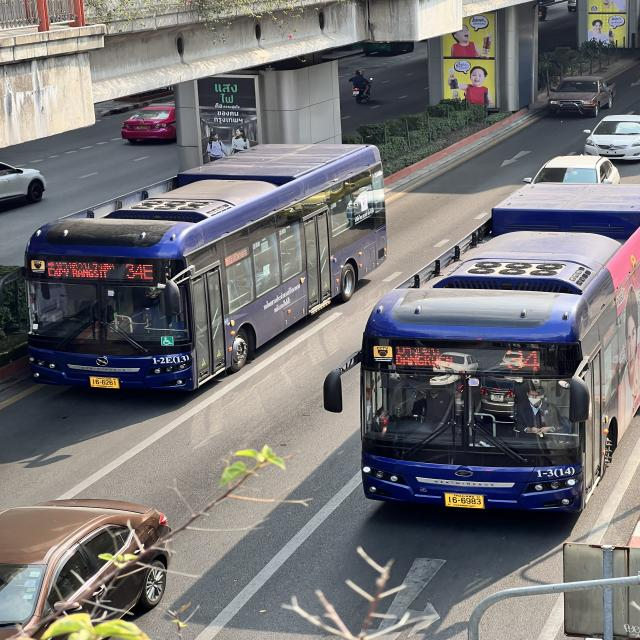Bus Line Number: (498, 346, 546, 373), (121, 259, 159, 283)
Bus Side Number: (533, 465, 578, 478), (147, 355, 189, 365)
Destination Sign: (42, 258, 117, 282), (392, 345, 458, 369)
TSB-Bus: (355, 180, 640, 516), (23, 143, 388, 396)
